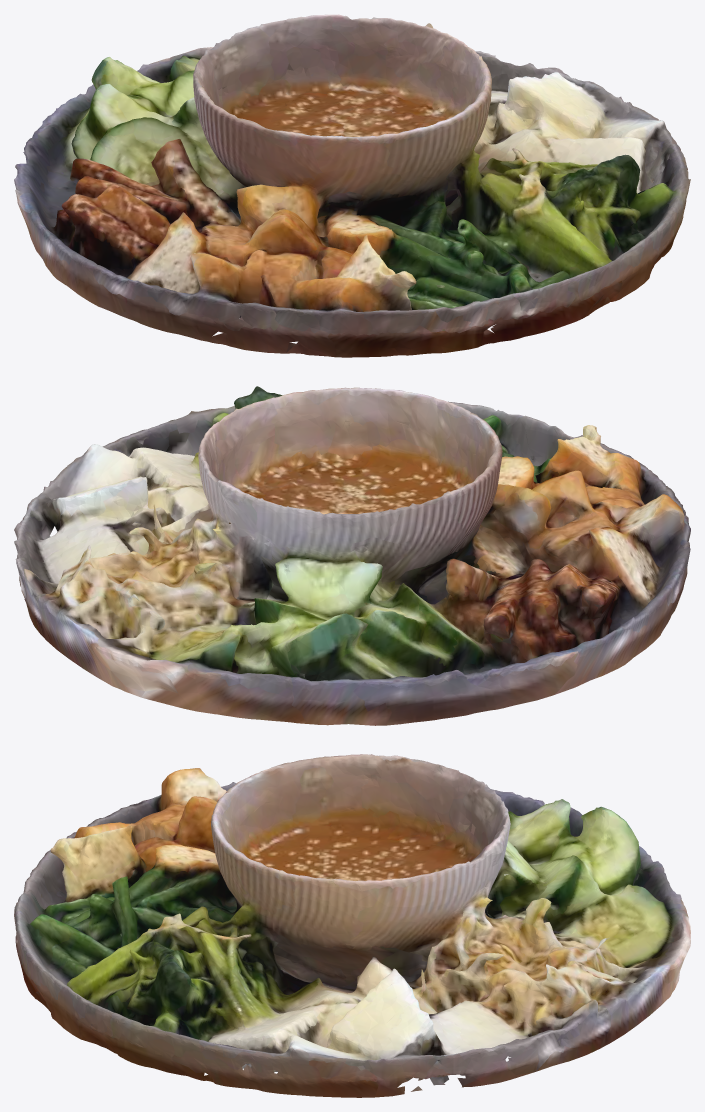
The model's file is gado-gado.glb.
The picture shows the model from 3 angles, top to bottom: view 1: azimuth 30°, elevation 25°; view 2: azimuth 150°, elevation 25°; view 3: azimuth 270°, elevation 25°; orthographic projection.
Parts seen in each view (by area): view 1: mesh_main_0; view 2: mesh_main_0; view 3: mesh_main_0.
Part boxes in pixels (x1=…): mesh_main_0: x1=14, y1=14, x2=690, y2=357; mesh_main_0: x1=14, y1=386, x2=690, y2=725; mesh_main_0: x1=14, y1=754, x2=690, y2=1097.
Size of the model in its own units: 0.2672 by 0.063 by 0.2715.
Materials: 1 (1 with a texture image).
